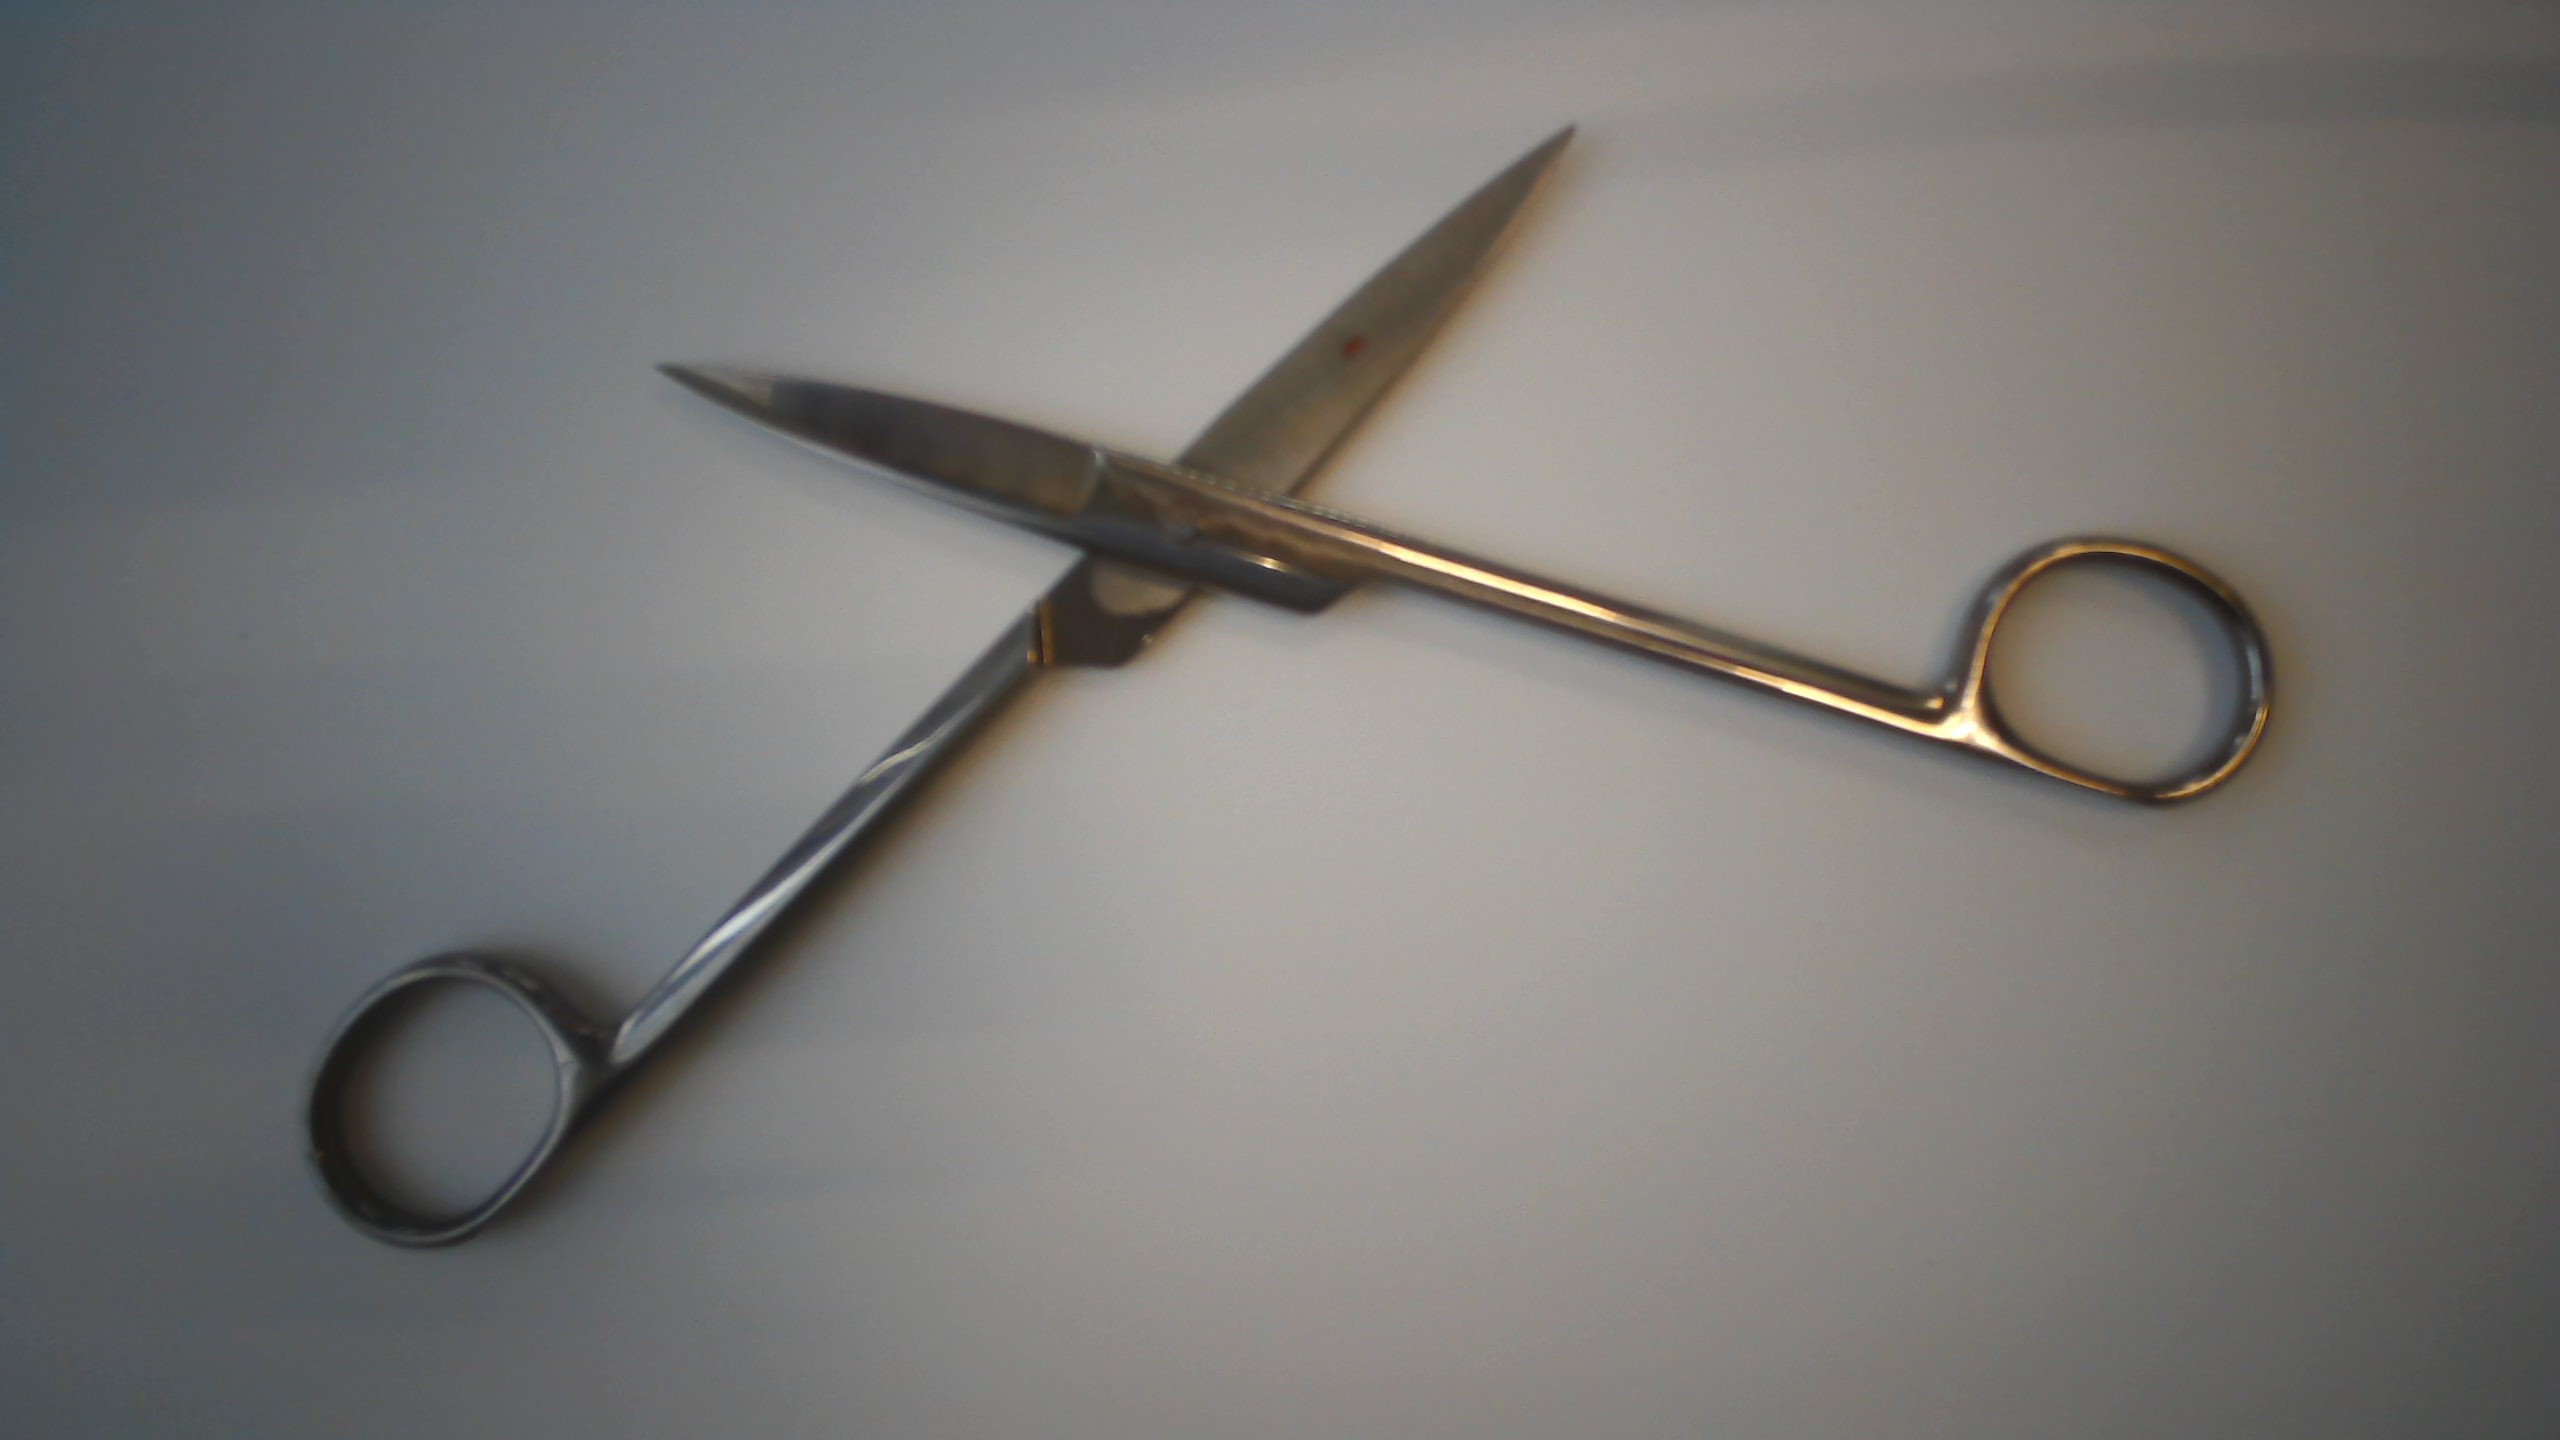Stain: (1336, 318, 1371, 376)
